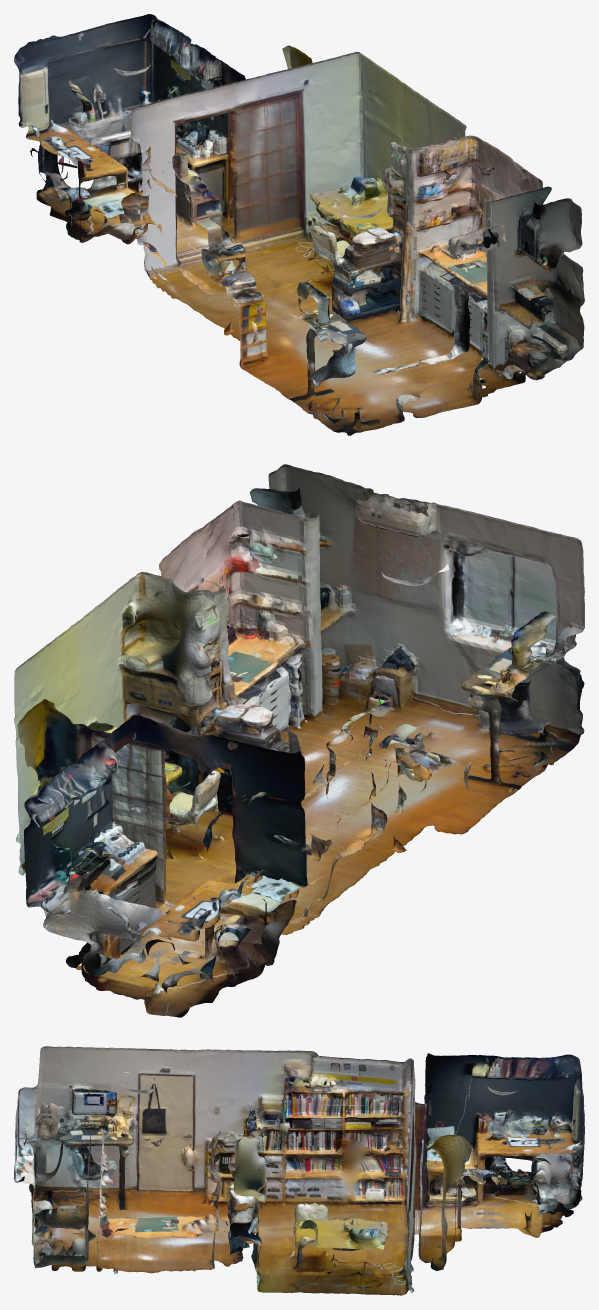
The model's file is kyojima-studio-2024-2026.glb.
3 views of the same model, one above another, from view 1: azimuth 30°, elevation 25°; view 2: azimuth 150°, elevation 25°; view 3: azimuth 270°, elevation 25° (orthographic). The views are drawn at different scales.
Bounding box in the file's own units: 3.52 × 2.34 × 7.99.
4 materials, 4 textured.
